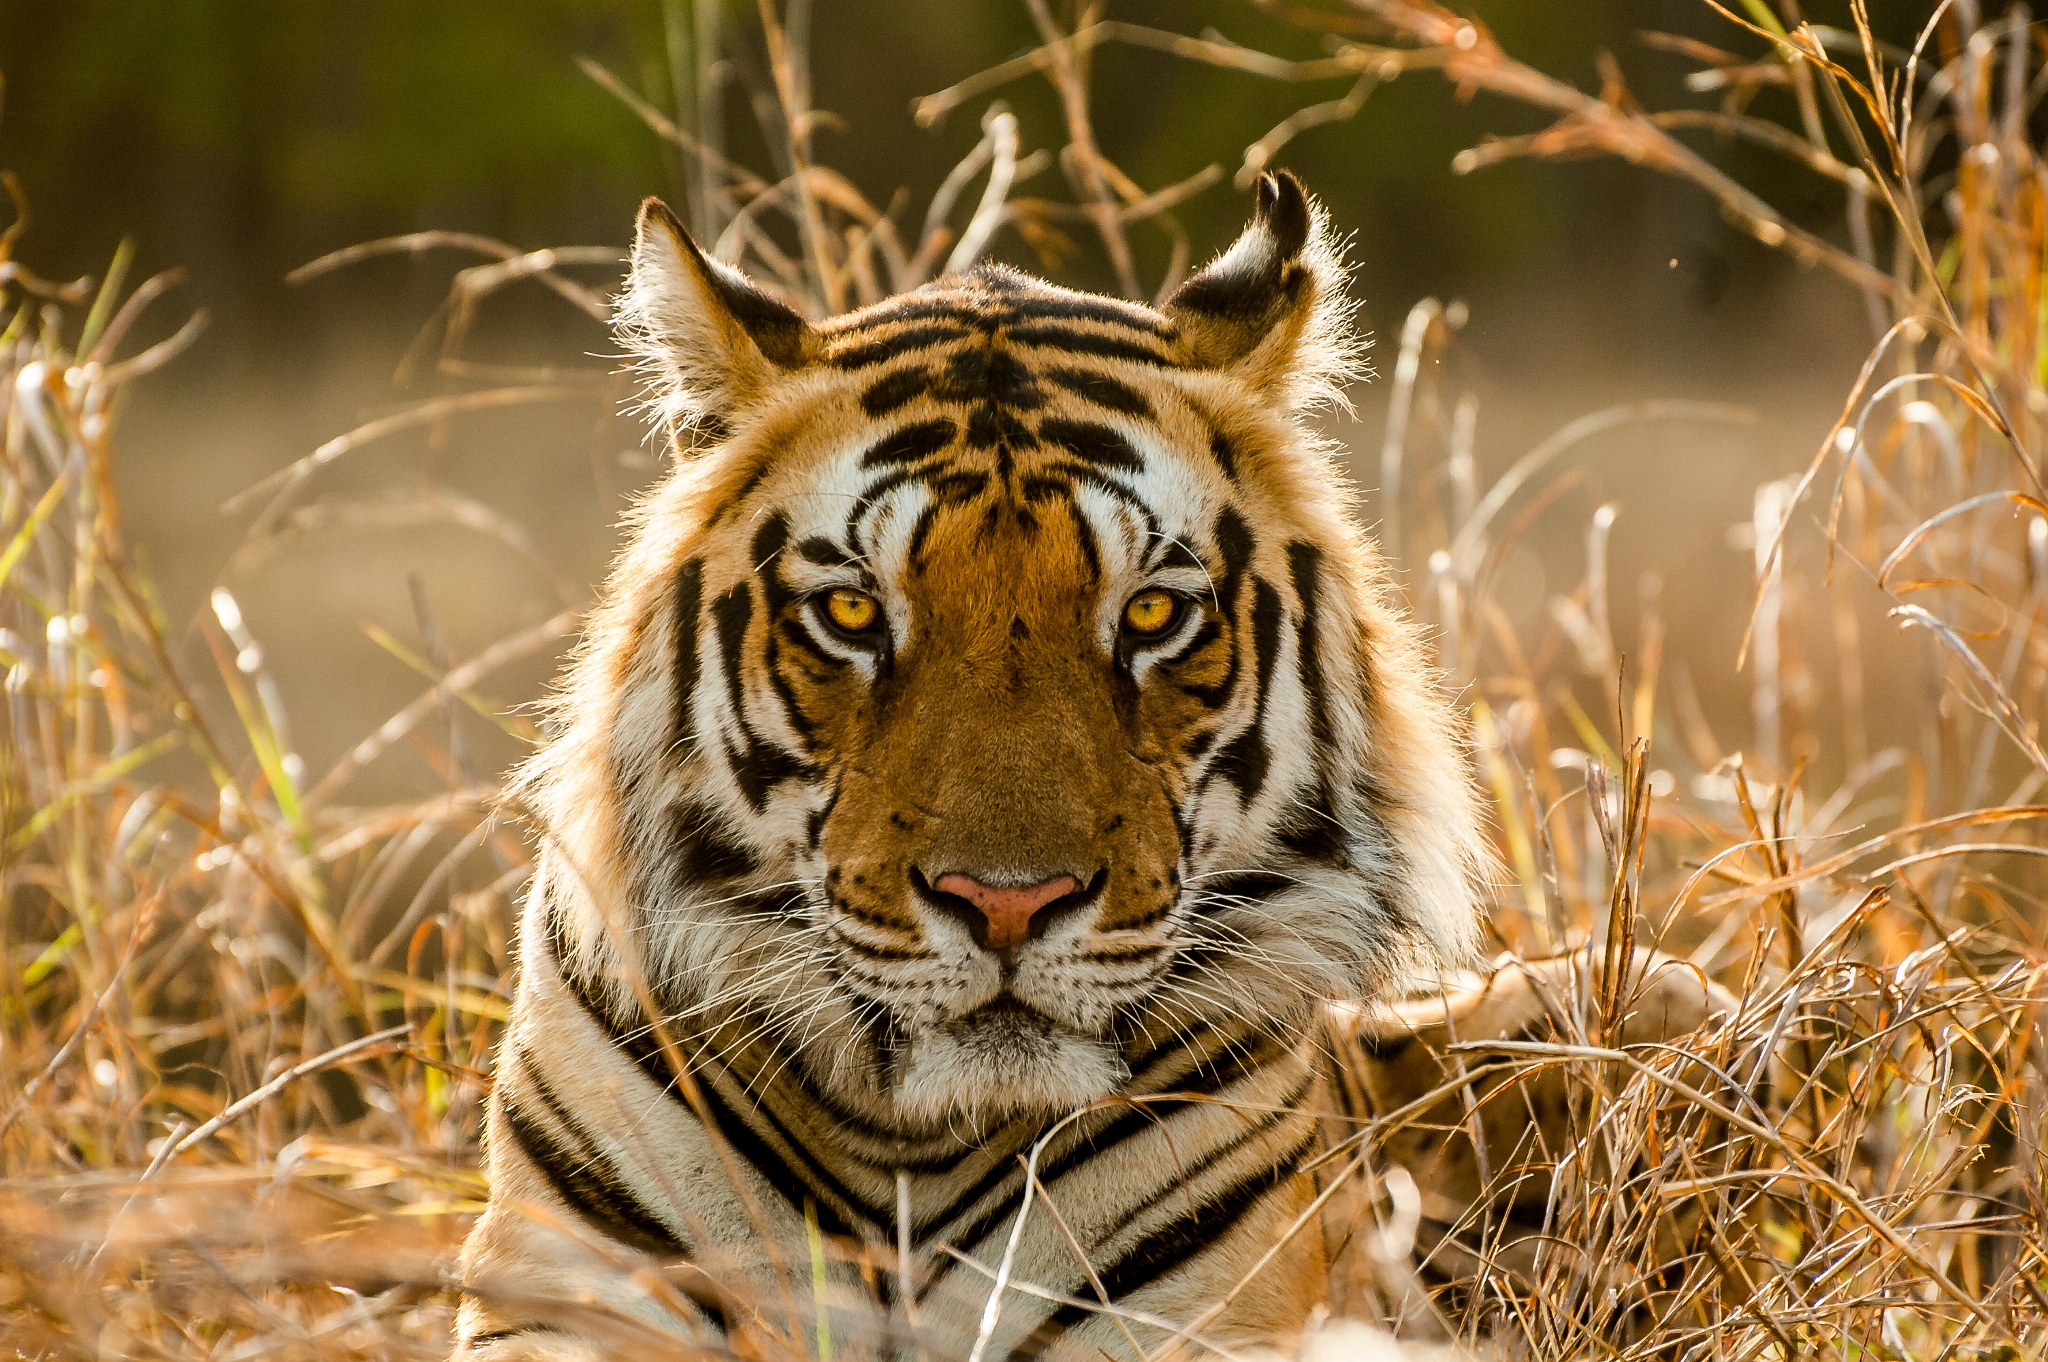tiger: (552, 163, 1454, 1291)
